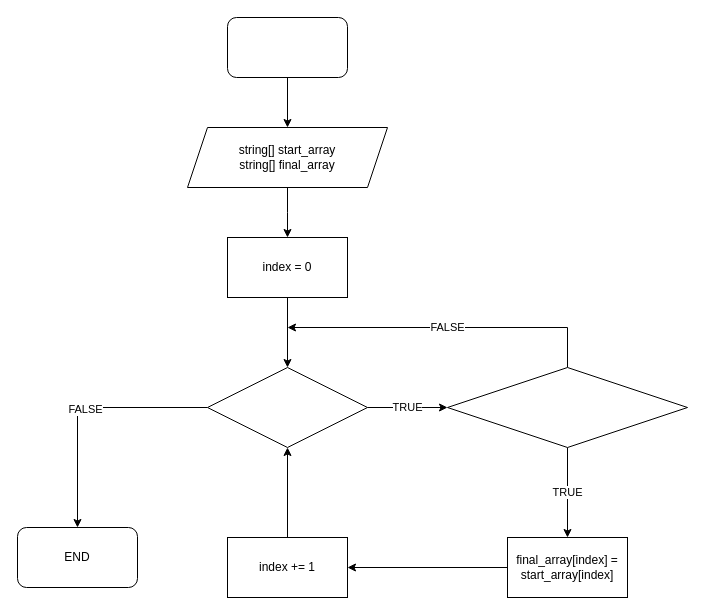
Image size: 705x615. Some labels were removed from this diagram. The centre of each missing label's shape, as x and y in pixels:
index < start_array.Length: (287,407)
modify_final_array: (287,47)
start_array[index].Length <= 3: (567,407)
